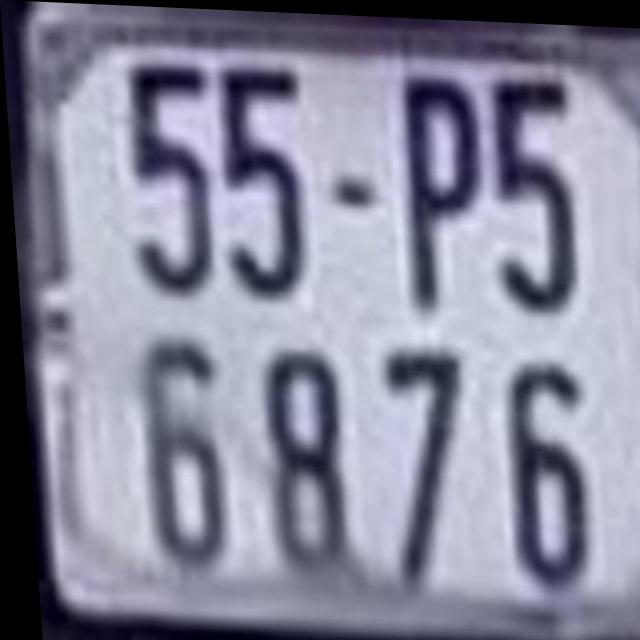5: (489, 69, 584, 310), (217, 56, 309, 292), (126, 62, 217, 288)
6: (494, 353, 593, 595), (133, 337, 229, 562)
7: (378, 347, 471, 587)
8: (260, 353, 345, 565)
P: (400, 67, 492, 318)
